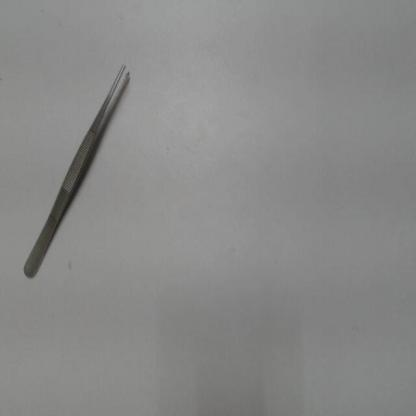Gillies Toothed Dissector: (18, 49, 137, 288)
